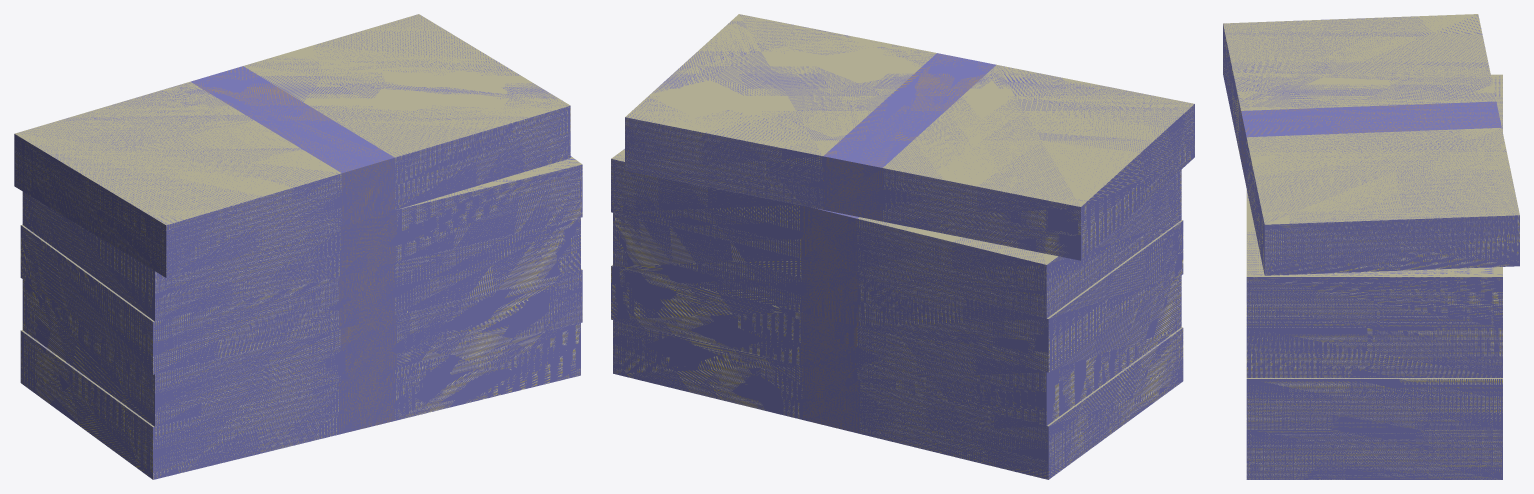
Rendered from 200Euros.fbx.
3 views of the same model, side by side, from view 1: azimuth 30°, elevation 25°; view 2: azimuth 150°, elevation 25°; view 3: azimuth 270°, elevation 25° (orthographic). The views are drawn at different scales.
Visible parts, largest first — view 1: G_200_Euro_stack5, G_200_Euro_stack1, G_200_Euro_stack3, G_200_Euro_stack2, G_200_Euro_stack4; view 2: G_200_Euro_stack5, G_200_Euro_stack1, G_200_Euro_stack3, G_200_Euro_stack2, G_200_Euro_stack4; view 3: G_200_Euro_stack5, G_200_Euro_stack4, G_200_Euro_stack2, G_200_Euro_stack1, G_200_Euro_stack3.
Part boxes in pixels (<box>): G_200_Euro_stack5: <box>14,14,570,277</box>; G_200_Euro_stack1: <box>20,323,580,479</box>; G_200_Euro_stack3: <box>20,217,580,374</box>; G_200_Euro_stack2: <box>22,269,582,426</box>; G_200_Euro_stack4: <box>22,156,582,321</box>; G_200_Euro_stack5: <box>625,14,1194,260</box>; G_200_Euro_stack1: <box>613,320,1183,479</box>; G_200_Euro_stack3: <box>613,213,1183,372</box>; G_200_Euro_stack2: <box>611,265,1181,425</box>; G_200_Euro_stack4: <box>611,149,1181,318</box>; G_200_Euro_stack5: <box>1223,14,1519,275</box>; G_200_Euro_stack4: <box>1246,74,1502,327</box>; G_200_Euro_stack2: <box>1246,378,1502,429</box>; G_200_Euro_stack1: <box>1246,430,1502,479</box>; G_200_Euro_stack3: <box>1246,328,1502,377</box>.
Bounding box in the file's own units: 0.1604 × 0.09 × 0.095.
